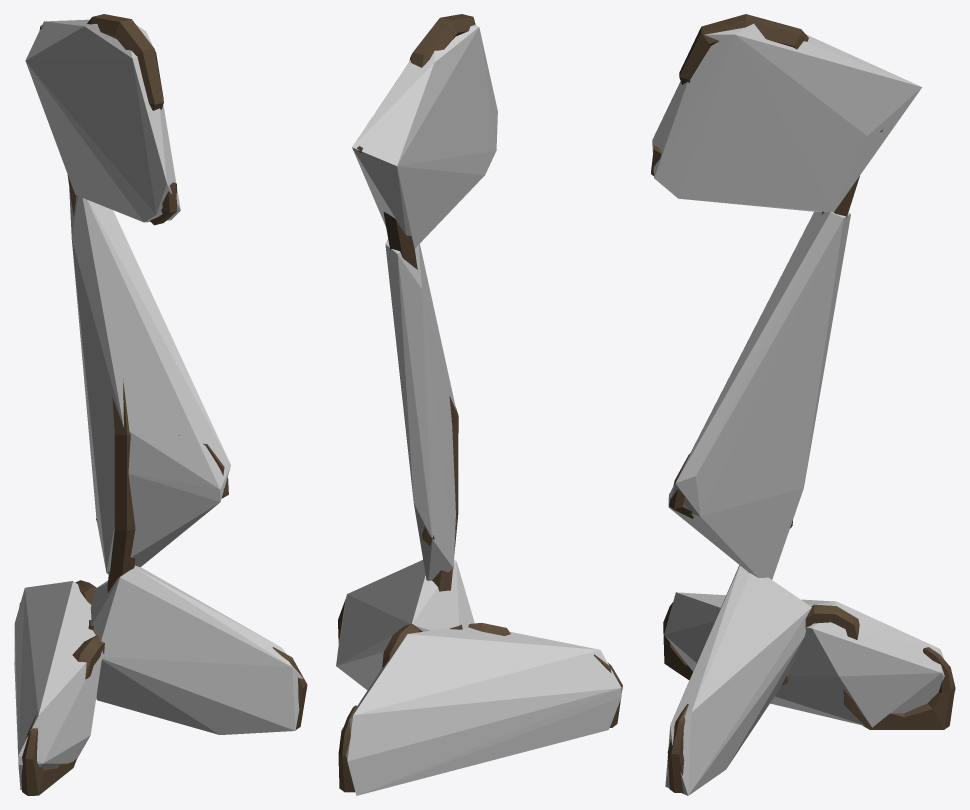
The model's file is SM_Prop_LanternStand_01.fbx.
3 views of the same model, side by side, from view 1: azimuth 30°, elevation 25°; view 2: azimuth 150°, elevation 25°; view 3: azimuth 270°, elevation 25° (orthographic). The views are drawn at different scales.
Parts seen in each view (by area): view 1: SM_Prop_LanternStand_01_ConvexHulls, SM_Prop_LanternStand_01; view 2: SM_Prop_LanternStand_01_ConvexHulls, SM_Prop_LanternStand_01; view 3: SM_Prop_LanternStand_01_ConvexHulls, SM_Prop_LanternStand_01.
Part boxes in pixels (x1=…): SM_Prop_LanternStand_01_ConvexHulls: x1=14, y1=19, x2=303, y2=789; SM_Prop_LanternStand_01: x1=19, y1=14, x2=307, y2=795; SM_Prop_LanternStand_01_ConvexHulls: x1=336, y1=25, x2=621, y2=795; SM_Prop_LanternStand_01: x1=338, y1=14, x2=622, y2=792; SM_Prop_LanternStand_01_ConvexHulls: x1=652, y1=23, x2=955, y2=795; SM_Prop_LanternStand_01: x1=651, y1=14, x2=955, y2=792.
Size of the model in its own units: 98.09 by 90.62 by 234.
Materials: 2 (1 with a texture image).
